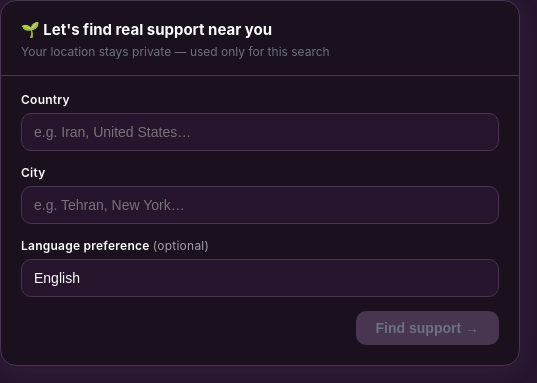
Test: SupportWidget — search flow › shows Try again button on error
In the field labelled "Country": (260, 132) [21, 113, 499, 151], type "US"
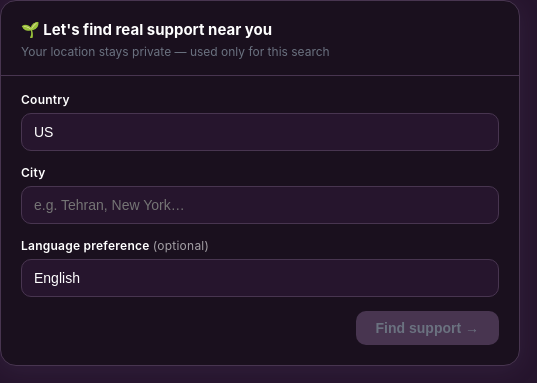
In the field labelled "City": (260, 205) [21, 186, 499, 224], type "NYC"
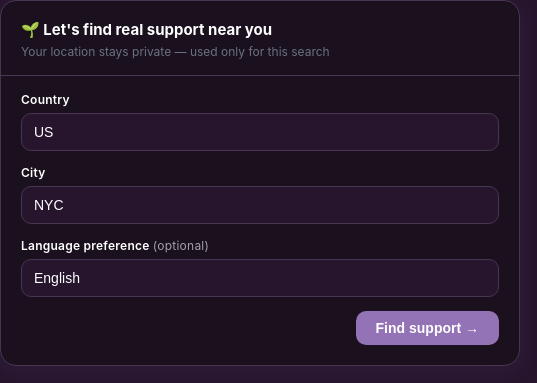
Click the button "Find support →": (427, 328) [356, 311, 499, 345]
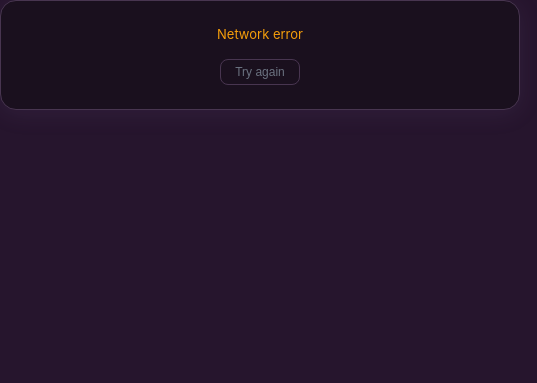
Check: the button "Try again" is shown, box [220, 58, 300, 84]
